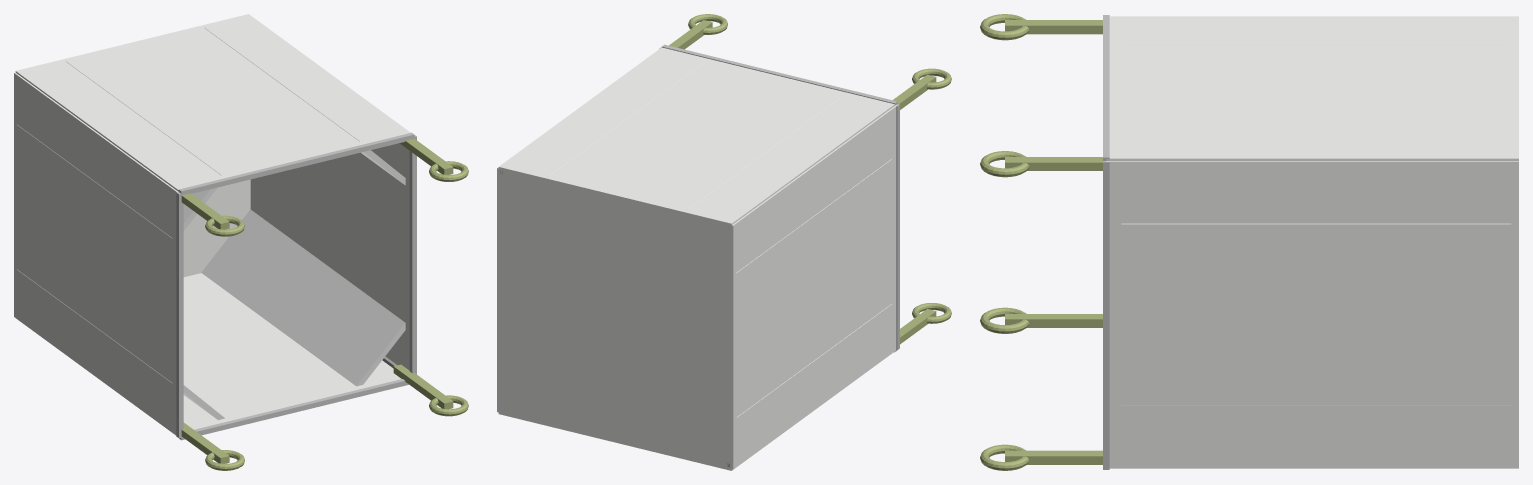
File: bolson_compartimentado_fibc.glb
3 renders of one model, left to right at view 1: azimuth 30°, elevation 25°; view 2: azimuth 150°, elevation 25°; view 3: azimuth 270°, elevation 25°, orthographic. The views are drawn at different scales.
Parts seen in each view (by area): view 1: left_shell, back_shell, internal_partition_corners, right_shell, front_shell, bottom, top_left_rim, top_back_rim, top_right_rim, top_front_rim, loop_strap_1, loop_strap_0 (+6 smaller); view 2: bottom, left_shell, back_shell, top_left_rim, top_back_rim, front_shell, internal_partition_corners, right_shell, loop_strap_2, loop_strap_0, loop_strap_3, loop_top_3 (+2 smaller); view 3: right_shell, back_shell, internal_partition_corners, top_right_rim, loop_strap_1, loop_strap_2, loop_strap_3, loop_strap_0, top_back_rim, front_shell, loop_top_1, loop_top_0 (+2 smaller).
Boxes of the visible parts, x1,y1,x2,y2 form: left_shell: [14, 72, 178, 435]; back_shell: [15, 14, 410, 192]; internal_partition_corners: [17, 27, 405, 419]; right_shell: [250, 143, 409, 370]; front_shell: [33, 273, 401, 429]; bottom: [183, 179, 250, 276]; top_left_rim: [176, 192, 183, 438]; top_back_rim: [178, 132, 414, 195]; top_right_rim: [409, 135, 416, 374]; top_front_rim: [179, 379, 408, 440]; loop_strap_1: [393, 364, 453, 409]; loop_strap_0: [181, 422, 229, 463]; bottom: [498, 169, 731, 466]; left_shell: [730, 105, 897, 469]; back_shell: [498, 47, 894, 226]; top_left_rim: [896, 104, 899, 350]; top_back_rim: [662, 44, 897, 105]; front_shell: [498, 351, 894, 470]; internal_partition_corners: [549, 62, 891, 417]; right_shell: [497, 167, 499, 412]; loop_strap_2: [893, 74, 936, 109]; loop_strap_0: [900, 309, 936, 344]; loop_strap_3: [669, 20, 712, 49]; loop_top_3: [688, 14, 727, 34]; right_shell: [1106, 161, 1518, 467]; back_shell: [1106, 16, 1518, 160]; internal_partition_corners: [1121, 44, 1511, 405]; top_right_rim: [1103, 161, 1109, 468]; loop_strap_1: [1005, 450, 1102, 464]; loop_strap_2: [1005, 20, 1102, 34]; loop_strap_3: [1005, 157, 1102, 170]; loop_strap_0: [1005, 314, 1102, 327]; top_back_rim: [1103, 15, 1109, 160]; front_shell: [1109, 467, 1518, 468]; loop_top_1: [980, 444, 1029, 470]; loop_top_0: [980, 307, 1029, 333].
Size of the model in its own units: 0.998 by 0.918 by 1.44.
